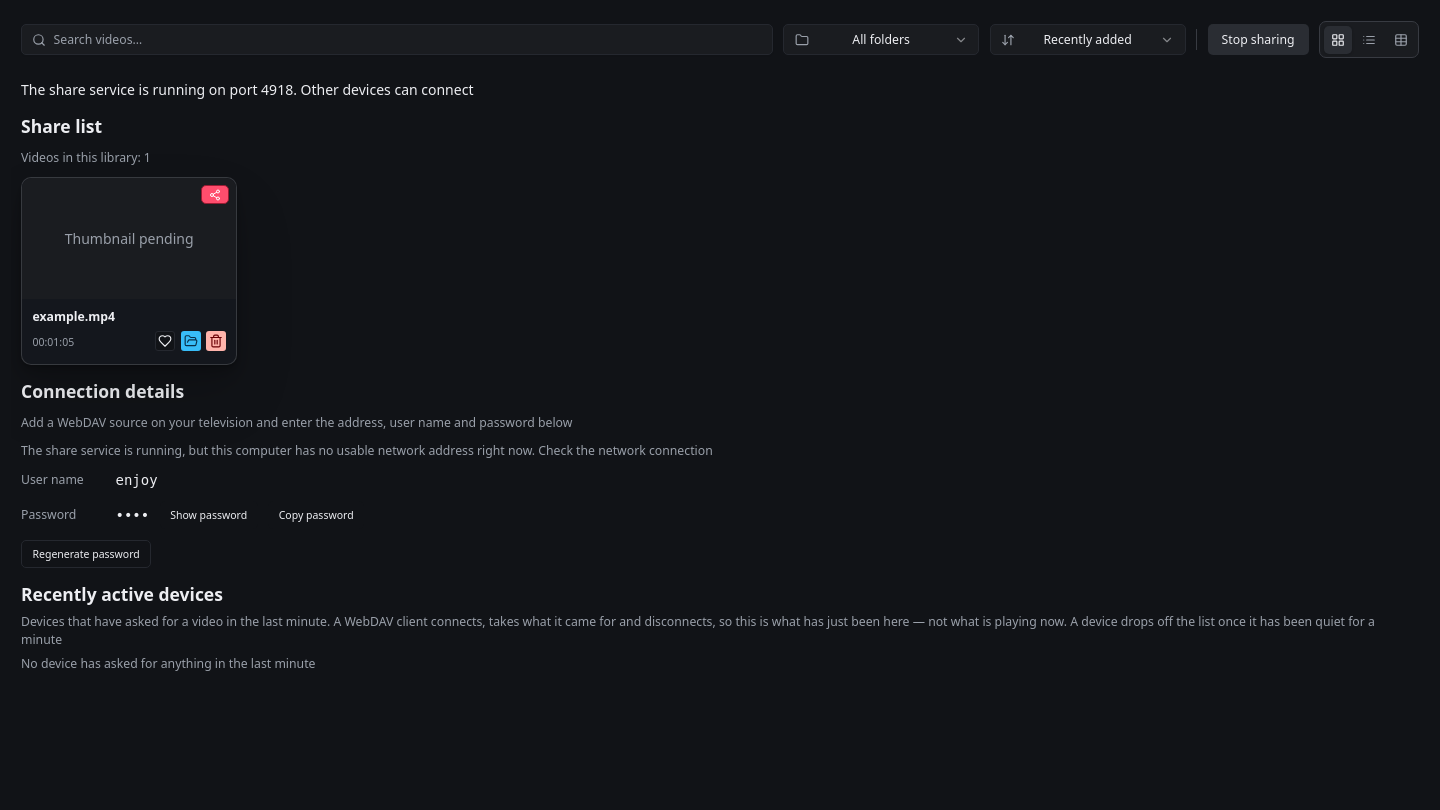
Scenario: ends a service that is running
Click the button "Stop sharing" at [1258, 40], box [1208,24,1308,55]
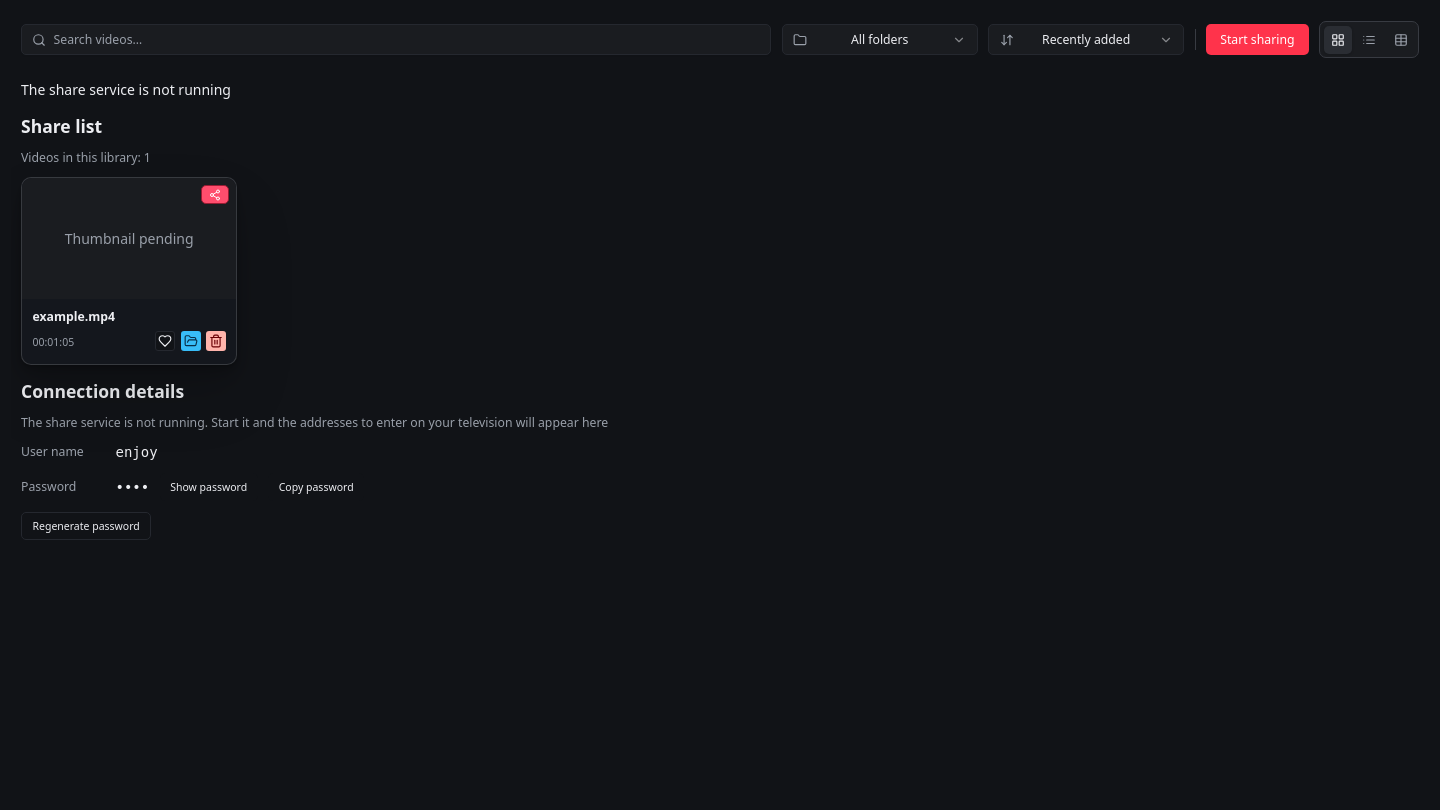
Result: the button "Start sharing" is shown at [1206,24,1308,55]
